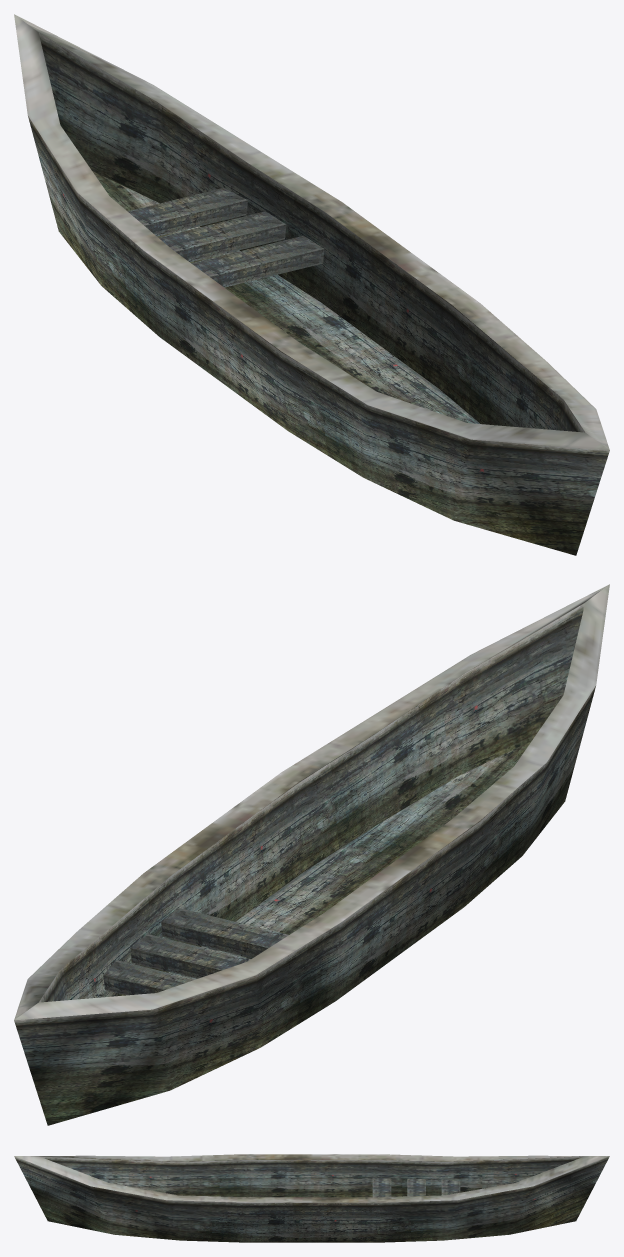
Rendered from skiff01.glb.
3 renders of one model, top to bottom at view 1: azimuth 30°, elevation 25°; view 2: azimuth 150°, elevation 25°; view 3: azimuth 270°, elevation 25°, orthographic. The views are drawn at different scales.
Visible parts, largest first — view 1: _skiff01; view 2: _skiff01; view 3: _skiff01.
Boxes of the visible parts, x1,y1,x2,y2 form: _skiff01: (14,14,609,555); _skiff01: (14,584,609,1125); _skiff01: (14,1154,609,1242).
Bounding box in the file's own units: 3 × 2.23 × 15.59.
1 material, 1 textured.
